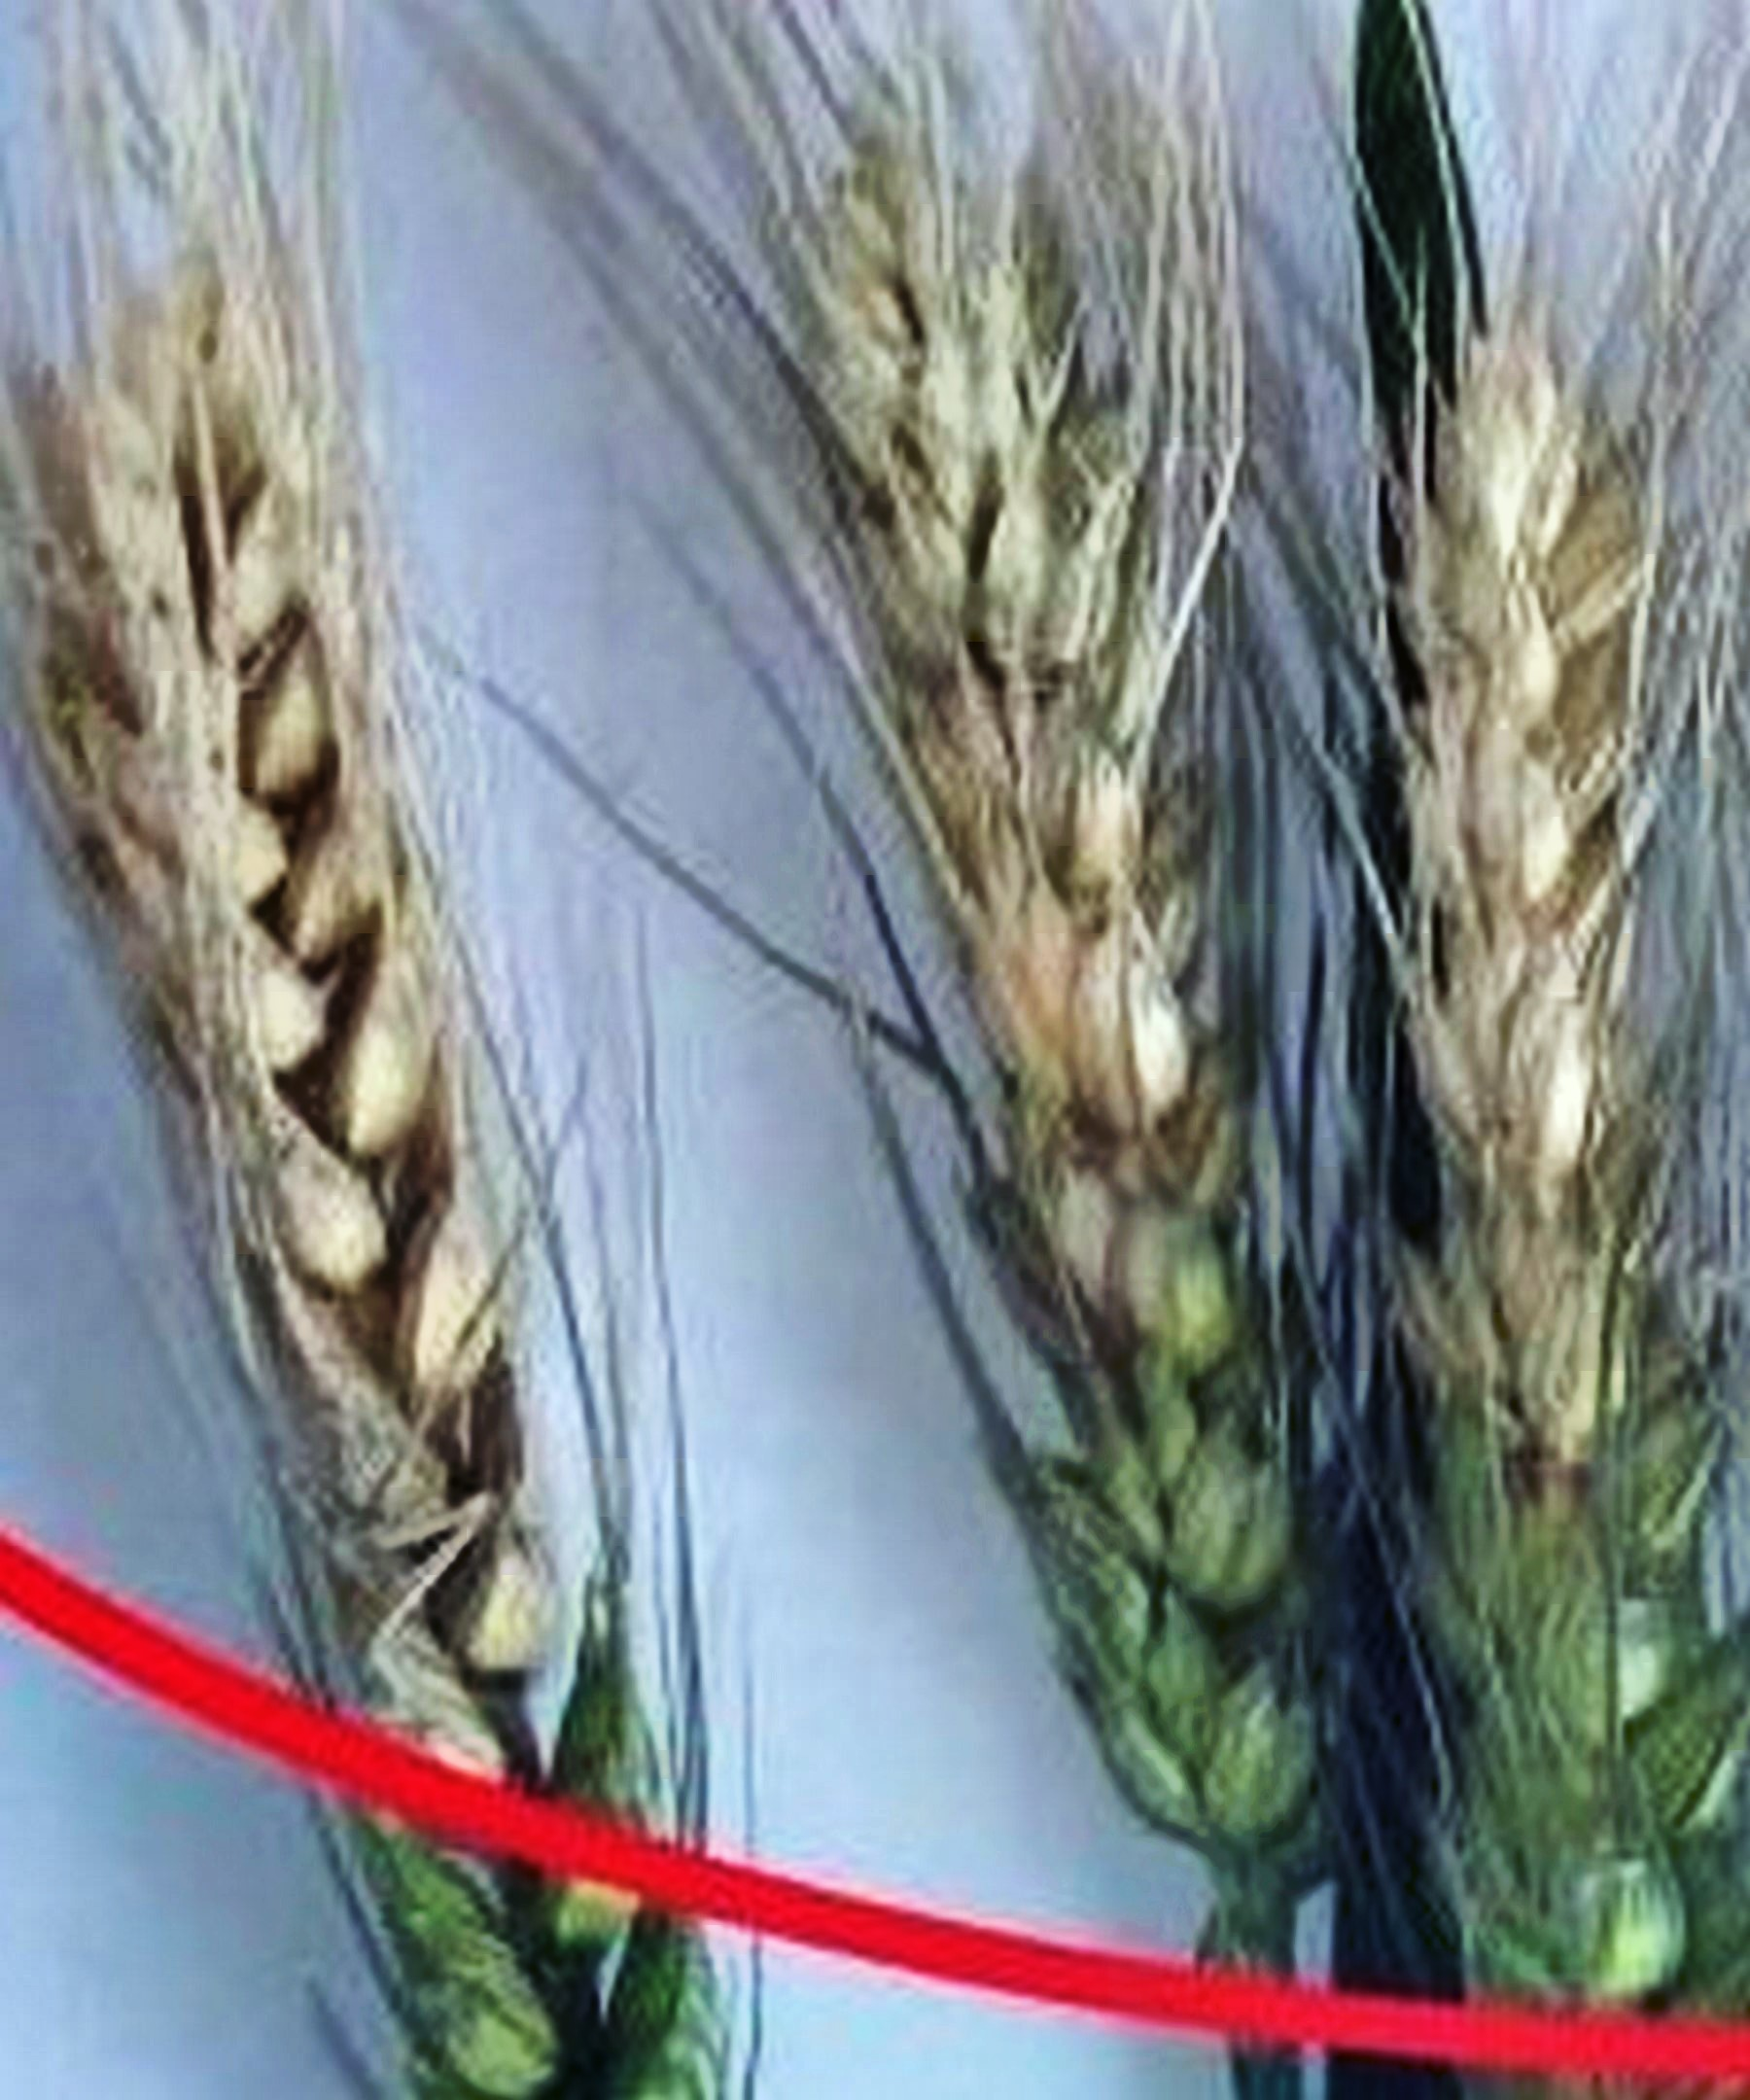Wheat scab: (40, 283, 722, 2070), (780, 99, 1382, 1877), (1391, 293, 1750, 1947)
